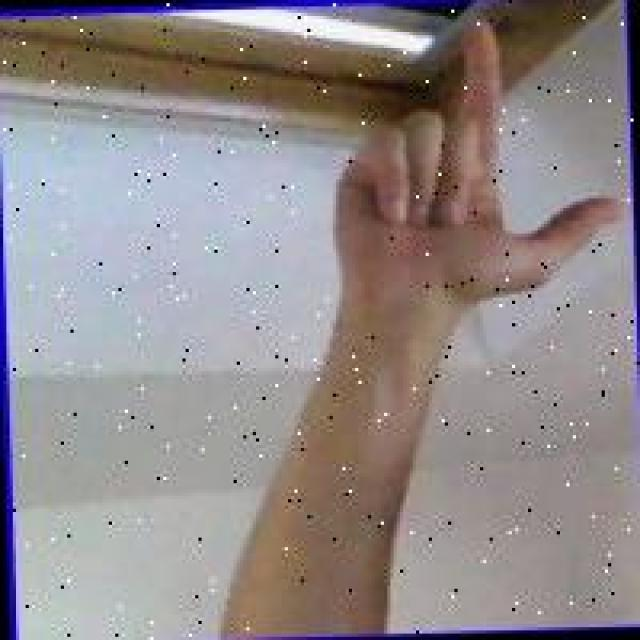L: (315, 8, 629, 309)
